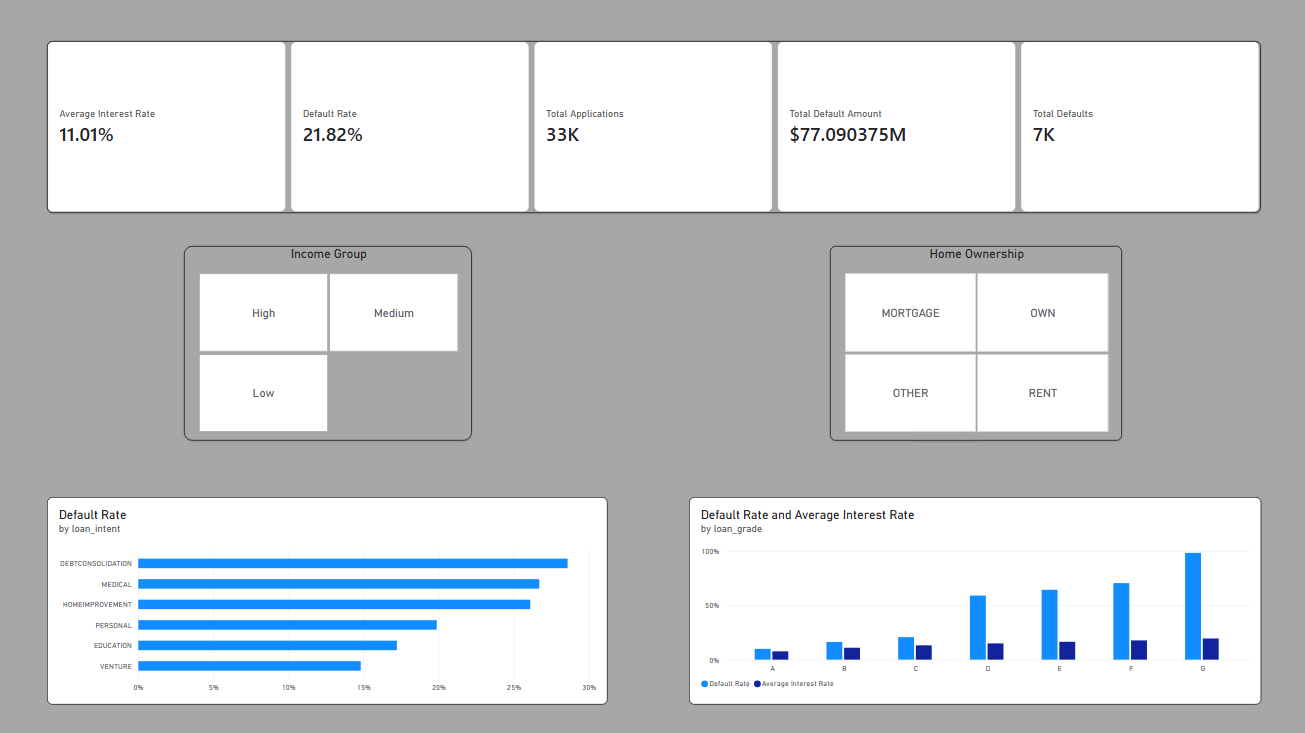

The page's visual inventory and layout, read from the dashboard file:
{"tool":"powerbi","page":{"name":"Page 1","canvas":[1920,1080],"ordinal":0},"visuals":[{"type":"slicer","title":"Income Group","fields":{"Values":["Dim_Client.Income Group"]},"box":[274.3,369.1,420.2,284.5],"z":0},{"type":"cardVisual","fields":{"Data":["_Measures.Average Interest Rate","_Measures.Default Rate","_Measures.Total Applications","_Measures.Total Default Amount","_Measures.Total Defaults"]},"box":[74.4,70,1771.2,250.9],"z":1000},{"type":"clusteredBarChart","title":"Default Rate ","fields":{"Category":["Dim_Product.loan_intent"],"Y":["_Measures.Default Rate"]},"box":[75,735,818.5,303.5],"z":2000},{"type":"lineClusteredColumnComboChart","fields":{"Category":["Dim_Product.loan_grade"],"Y":["_Measures.Default Rate","_Measures.Average Interest Rate"]},"box":[1011.7,735,835,303.3],"z":3000},{"type":"slicer","title":"Home Ownership","fields":{"Values":["Dim_Client.person_home_ownership"]},"box":[1216.8,369.1,426,284.5],"z":4000}]}

Visuals, with their boxes in screenshot pixels (x1, y1, x2, y2), scaled from the page's 1920x1080 canvas onto the 1305x733 screenshot:
"Income Group" slicer: BBox(186, 251, 472, 444)
cardVisual - _Measures.Average Interest Rate x _Measures.Default Rate: BBox(51, 48, 1254, 218)
"Default Rate " clusteredBarChart: BBox(51, 499, 607, 705)
lineClusteredColumnComboChart - Dim_Product.loan_grade x _Measures.Default Rate: BBox(688, 499, 1255, 705)
"Home Ownership" slicer: BBox(827, 251, 1117, 444)
